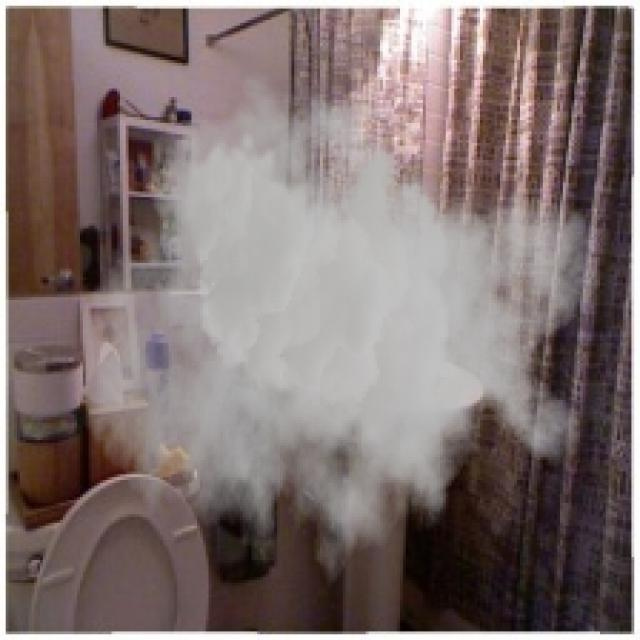smoke: (77, 71, 603, 608)
